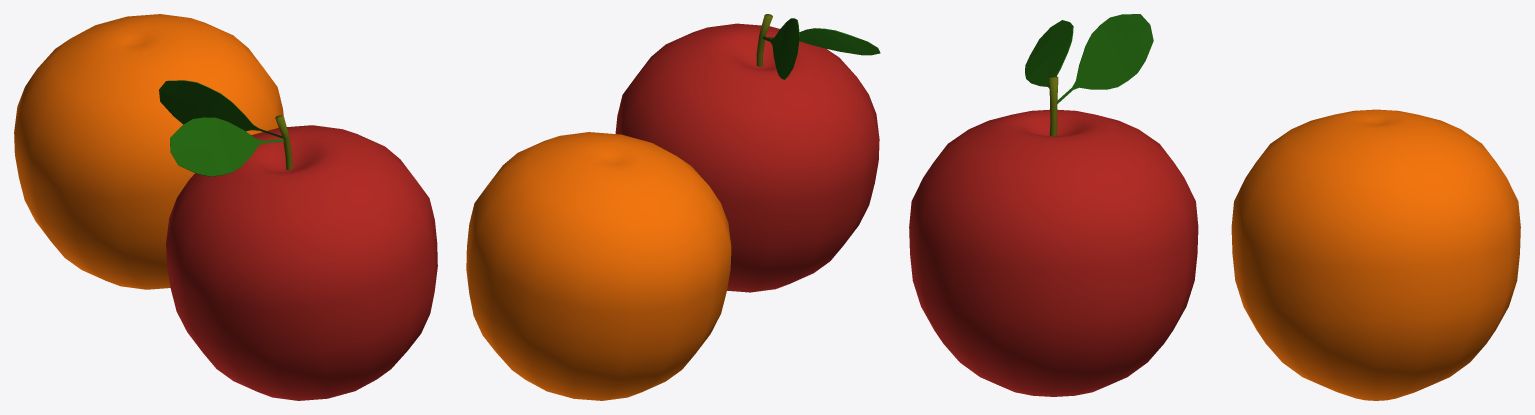
Rendered from Orange2.fbx.
The picture shows the model from 3 angles, left to right: view 1: azimuth 30°, elevation 25°; view 2: azimuth 150°, elevation 25°; view 3: azimuth 270°, elevation 25°; orthographic projection. The views are drawn at different scales.
Visible parts, largest first — view 1: Orange, Orange.001; view 2: Orange.001, Orange; view 3: Orange, Orange.001.
Boxes of the visible parts, x1,y1,x2,y2 form: Orange: (159, 80, 437, 400); Orange.001: (14, 14, 283, 289); Orange.001: (466, 132, 731, 400); Orange: (615, 14, 880, 292); Orange: (909, 14, 1198, 396); Orange.001: (1231, 109, 1520, 400).
Size of the model in its own units: 363 by 429 by 718.
